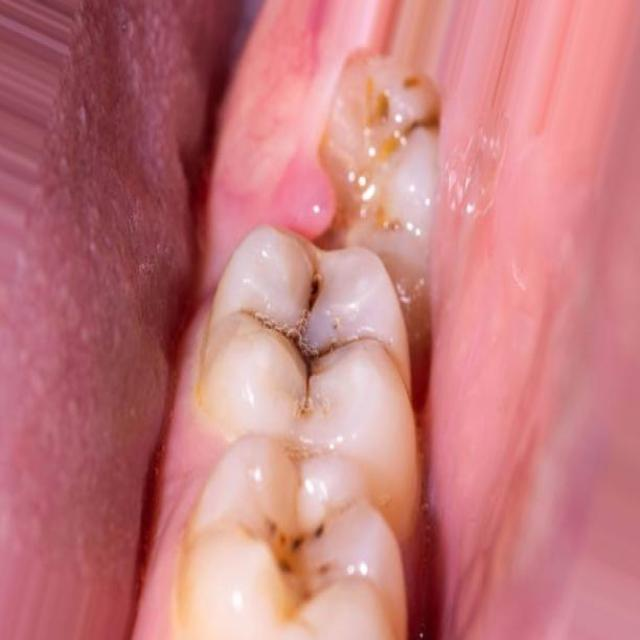caries: (241, 260, 371, 421), (238, 465, 360, 624), (330, 68, 436, 248)
